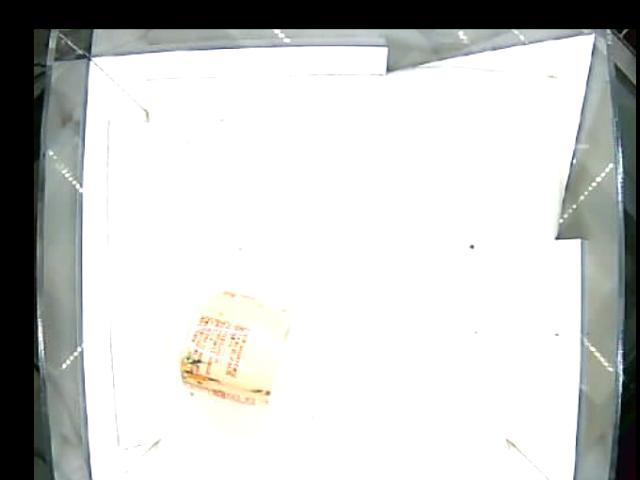Bottle: (174, 287, 332, 425)
